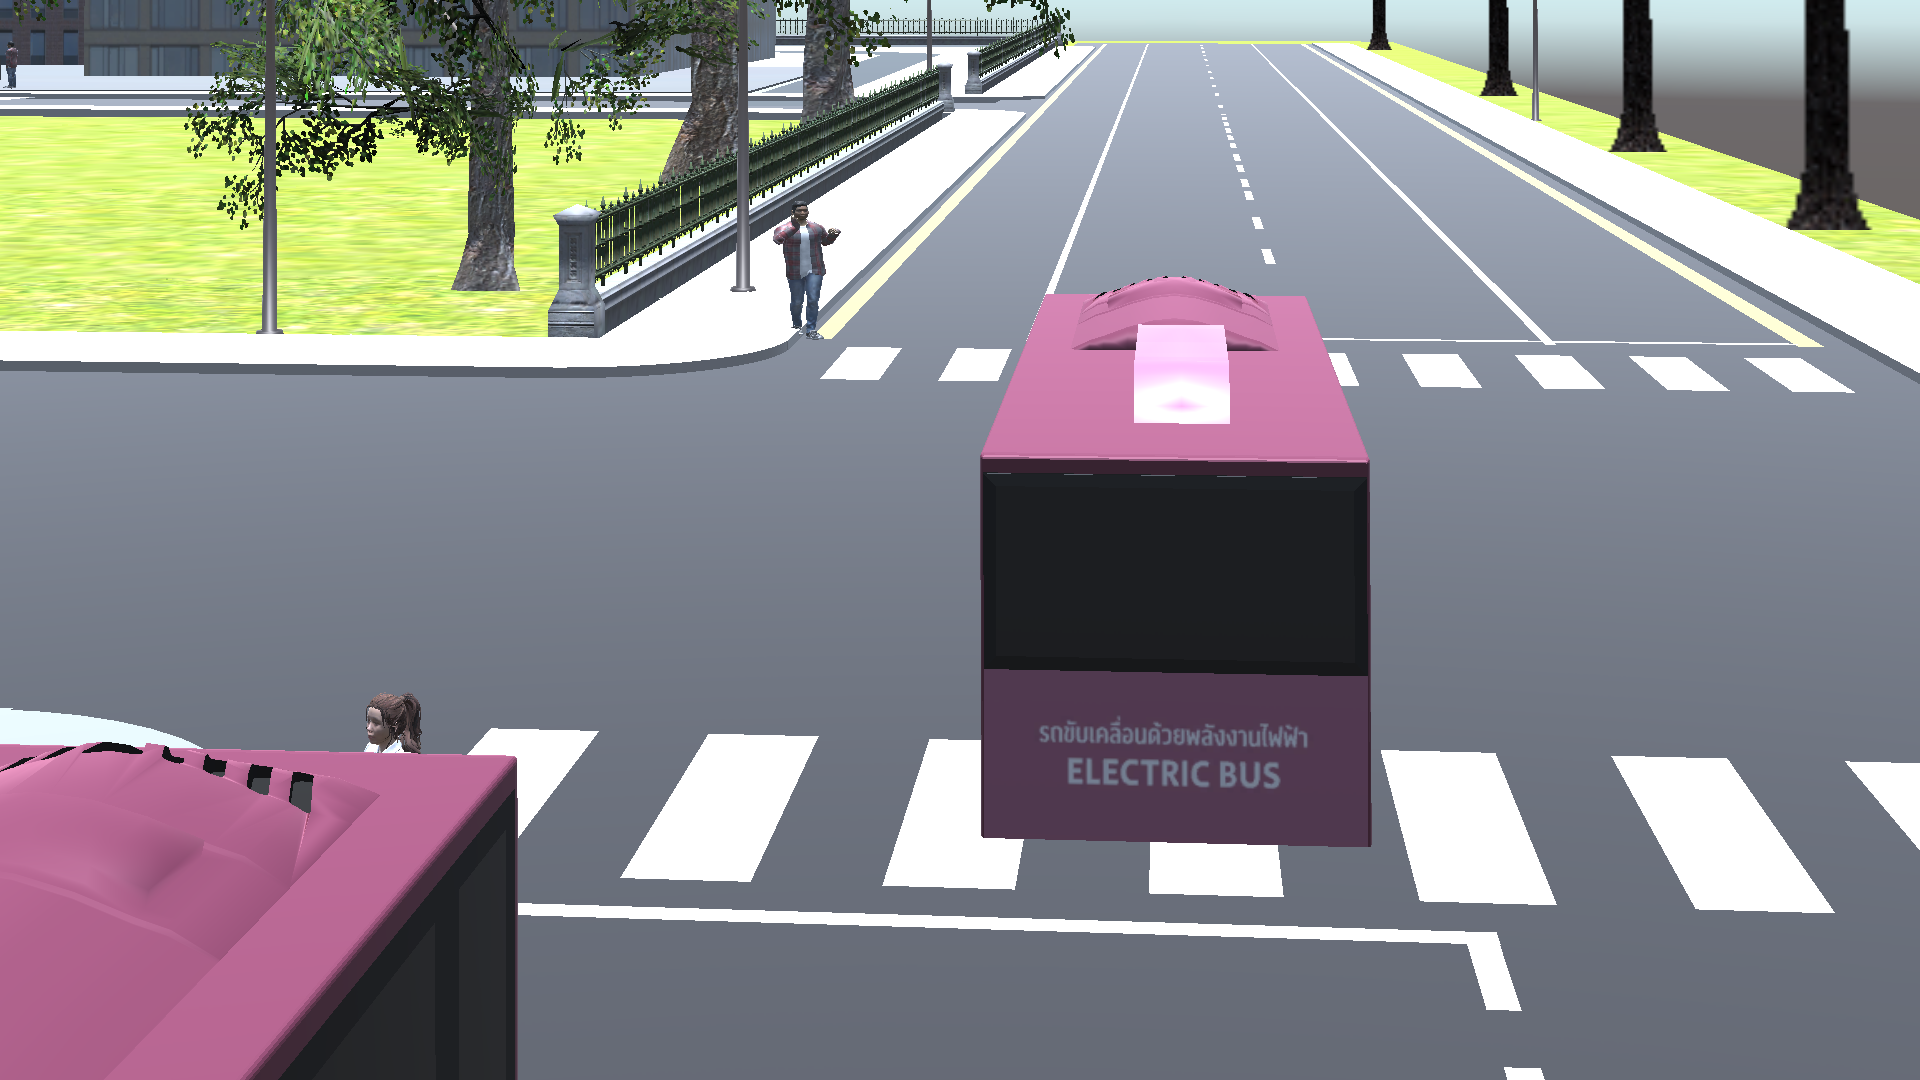pedestrian: (768, 194, 848, 354), (346, 679, 436, 750)
